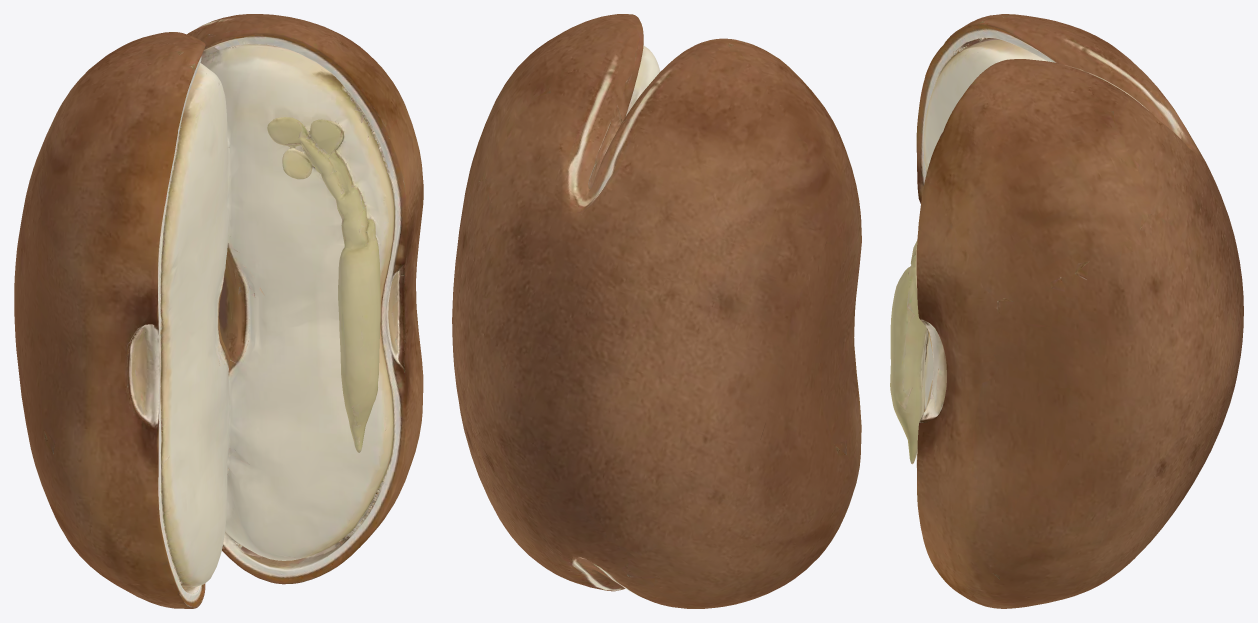
The model's file is seed.glb.
3 renders of one model, left to right at view 1: azimuth 30°, elevation 25°; view 2: azimuth 150°, elevation 25°; view 3: azimuth 270°, elevation 25°, orthographic. The views are drawn at different scales.
Visible parts, largest first — view 1: Mesh1.0; view 2: Mesh1.0; view 3: Mesh1.0.
Boxes of the visible parts, x1,y1,x2,y2 form: Mesh1.0: (14,14,423,608); Mesh1.0: (452,14,861,608); Mesh1.0: (890,14,1243,608).
Bounding box in the file's own units: 1.28 × 1.91 × 1.14.
Materials: 1 (1 with a texture image).
